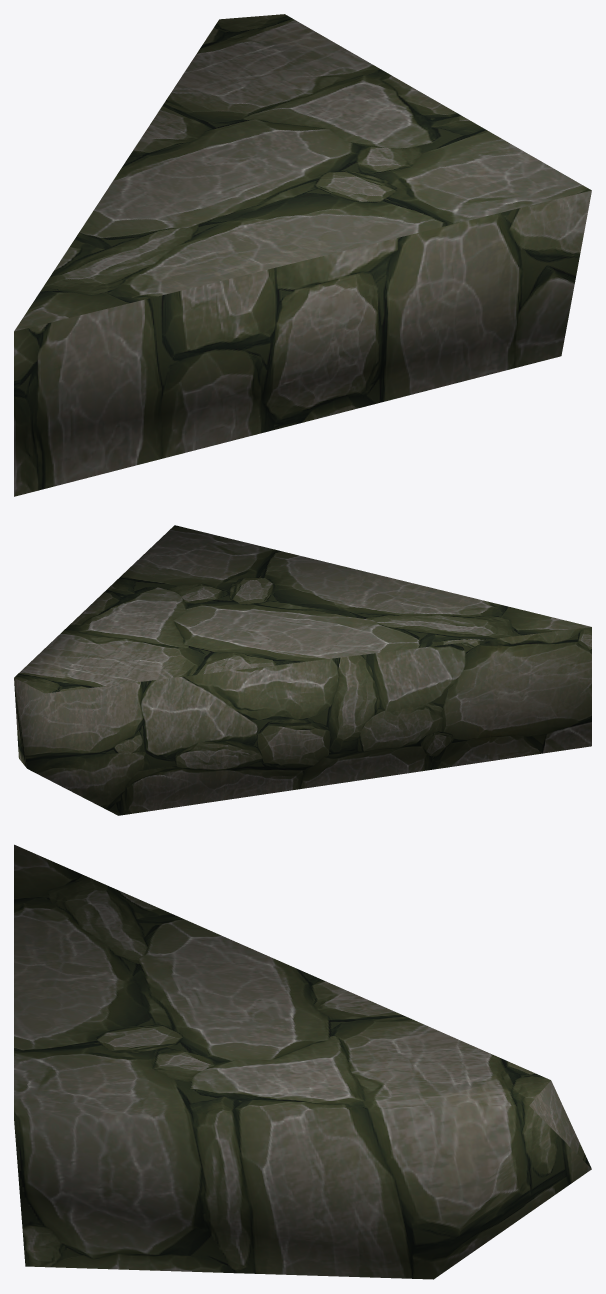
The model's file is TI_Wall_Piece_03.fbx.
3 renders of one model, top to bottom at view 1: azimuth 30°, elevation 25°; view 2: azimuth 150°, elevation 25°; view 3: azimuth 270°, elevation 25°, orthographic. The views are drawn at different scales.
Visible parts, largest first — view 1: TI_Wall_Piece_03; view 2: TI_Wall_Piece_03; view 3: TI_Wall_Piece_03.
Part boxes in pixels (x1=…): TI_Wall_Piece_03: x1=14, y1=14, x2=591, y2=496; TI_Wall_Piece_03: x1=14, y1=525, x2=591, y2=815; TI_Wall_Piece_03: x1=14, y1=844, x2=591, y2=1279.
Bounding box in the file's own units: 1.37 × 0.3739 × 1.22.
